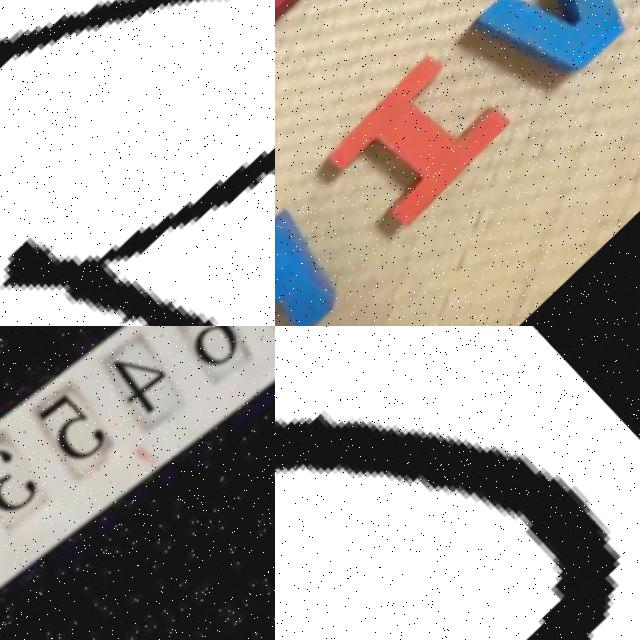3: (0, 414, 70, 541)
4: (81, 326, 205, 443)
5: (14, 363, 140, 490)
6: (148, 326, 275, 400)
C: (275, 416, 626, 640)
G: (0, 0, 275, 326)
I: (319, 49, 513, 244)
P: (275, 209, 355, 326)
V: (467, 0, 640, 114)
